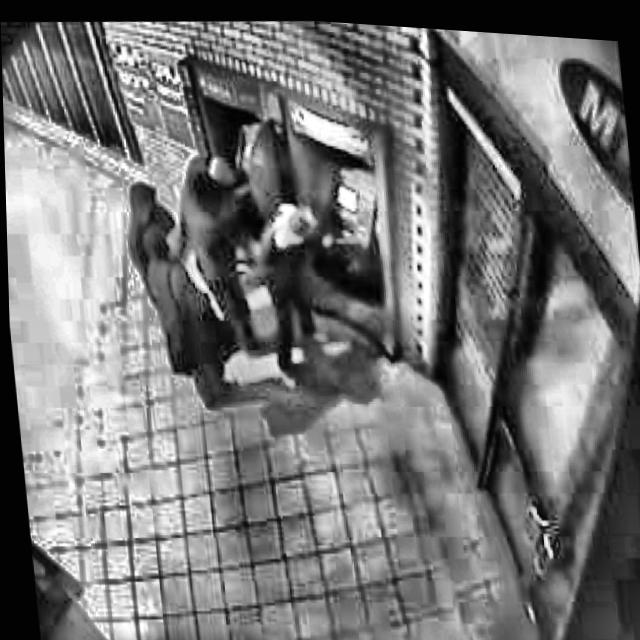burglary: (112, 87, 396, 421)
